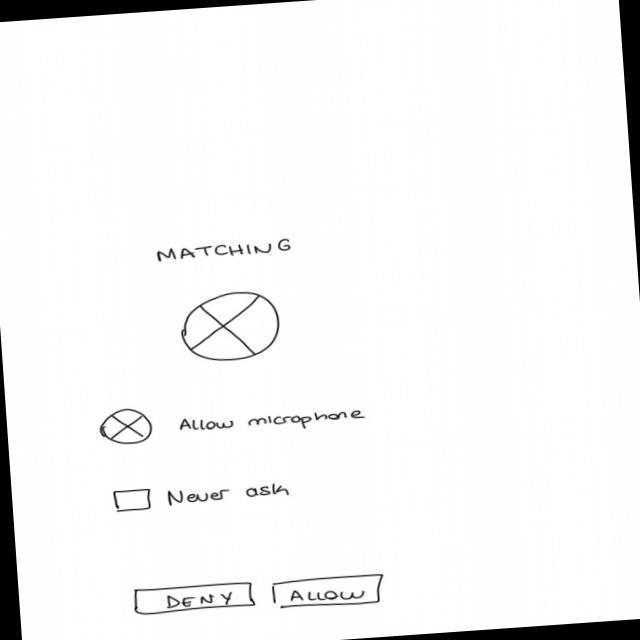button: (269, 572, 389, 613), (131, 580, 258, 618)
checkbox: (112, 476, 296, 514)
image: (178, 288, 284, 367), (97, 407, 155, 447)
label: (178, 405, 371, 440), (156, 237, 296, 264)
